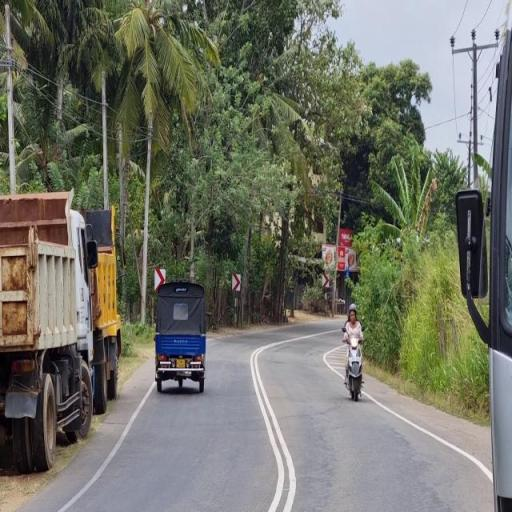double_white_line: (250, 341, 294, 511)
